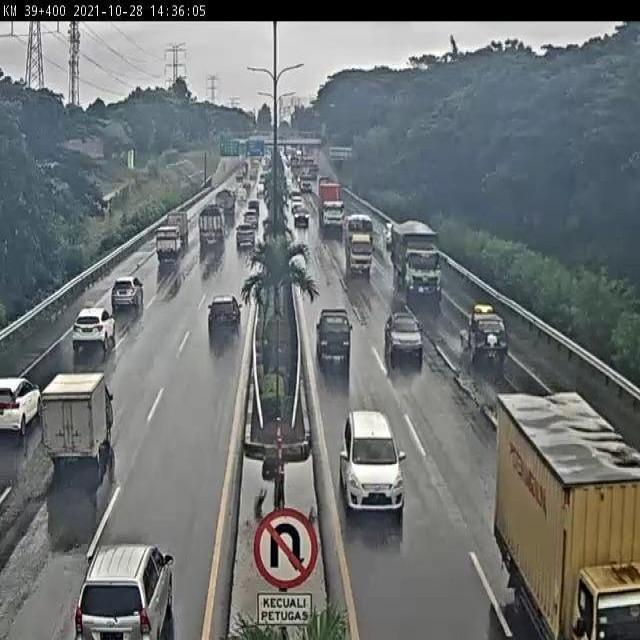big truck: (91, 539, 173, 636), (399, 229, 444, 296), (320, 183, 348, 237), (201, 207, 227, 254)
car: (339, 403, 408, 517), (455, 307, 514, 365), (71, 302, 122, 358), (382, 312, 430, 371), (205, 290, 249, 346), (322, 300, 352, 376), (0, 371, 26, 436), (108, 269, 147, 312), (295, 211, 308, 229)
small bus: (347, 220, 372, 279)
small truck: (488, 393, 639, 627), (35, 375, 113, 473), (159, 223, 184, 261)
